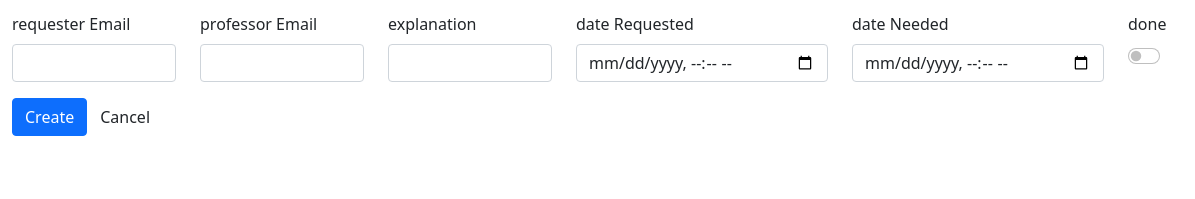
Scenario: RecommendationRequestForm tests › Correct Error messsages on missing input
The image size is (1195, 199).
Click the button with test id "RecommendationRequestForm-submit": x=50, y=117 [12,98,87,136]
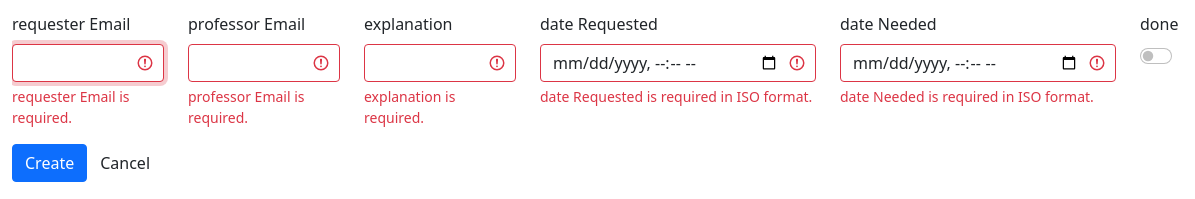
Result: the text "requester Email is required." is shown at [12,87,130,127]
Result: the text "professor Email is required." is shown at [188,87,304,127]
Result: the text "explanation is required." is shown at [364,87,455,127]
